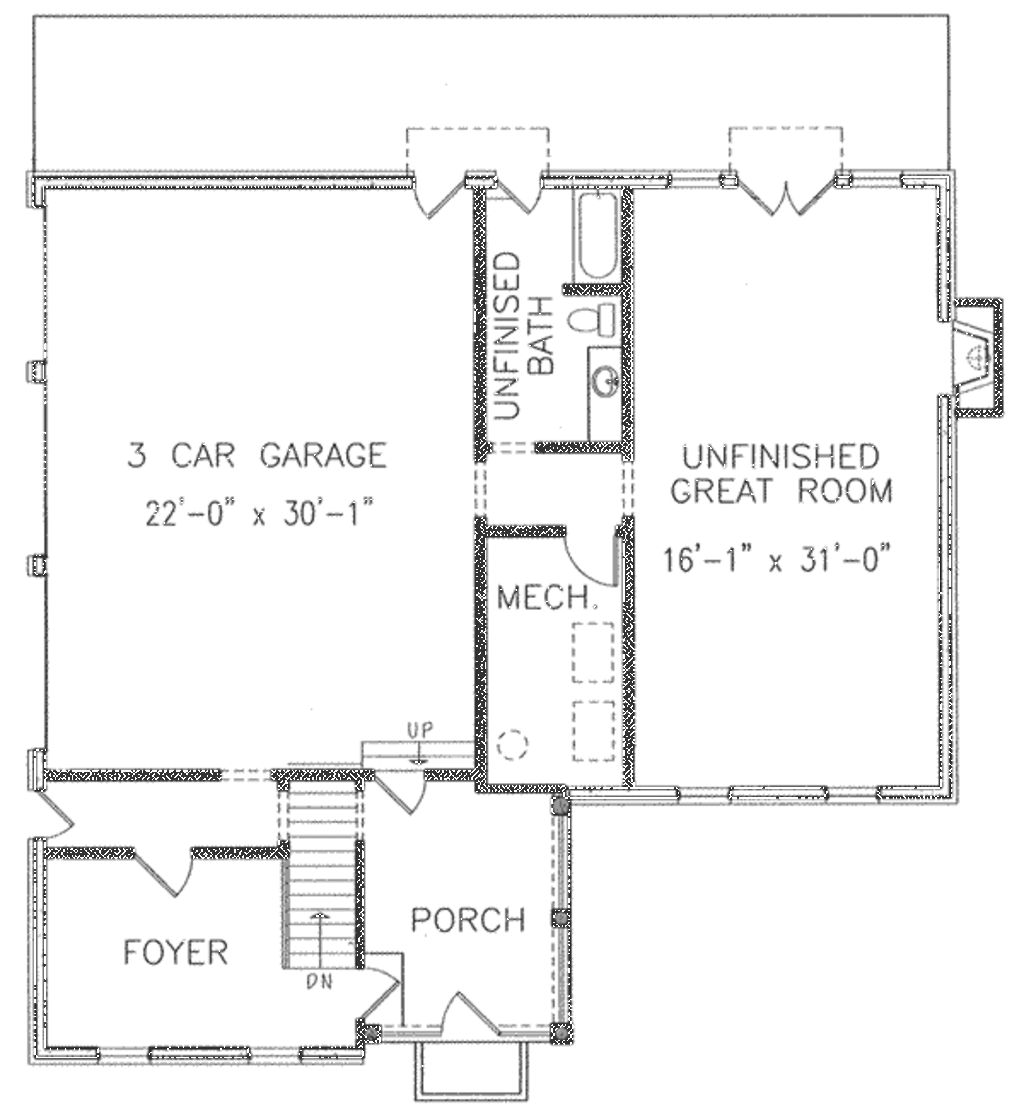door: (733, 163, 832, 219), (553, 524, 627, 591), (126, 845, 196, 906), (432, 987, 504, 1045), (402, 166, 471, 213), (29, 787, 75, 850), (493, 170, 544, 222), (374, 762, 427, 812)
large_sink: (555, 297, 625, 342)
small_sink: (579, 347, 635, 446)
stairs: (278, 766, 371, 987)
tub: (566, 187, 627, 283)
windows: (546, 806, 579, 1032), (814, 776, 885, 811), (654, 164, 731, 196), (842, 160, 908, 192), (675, 782, 738, 811)
